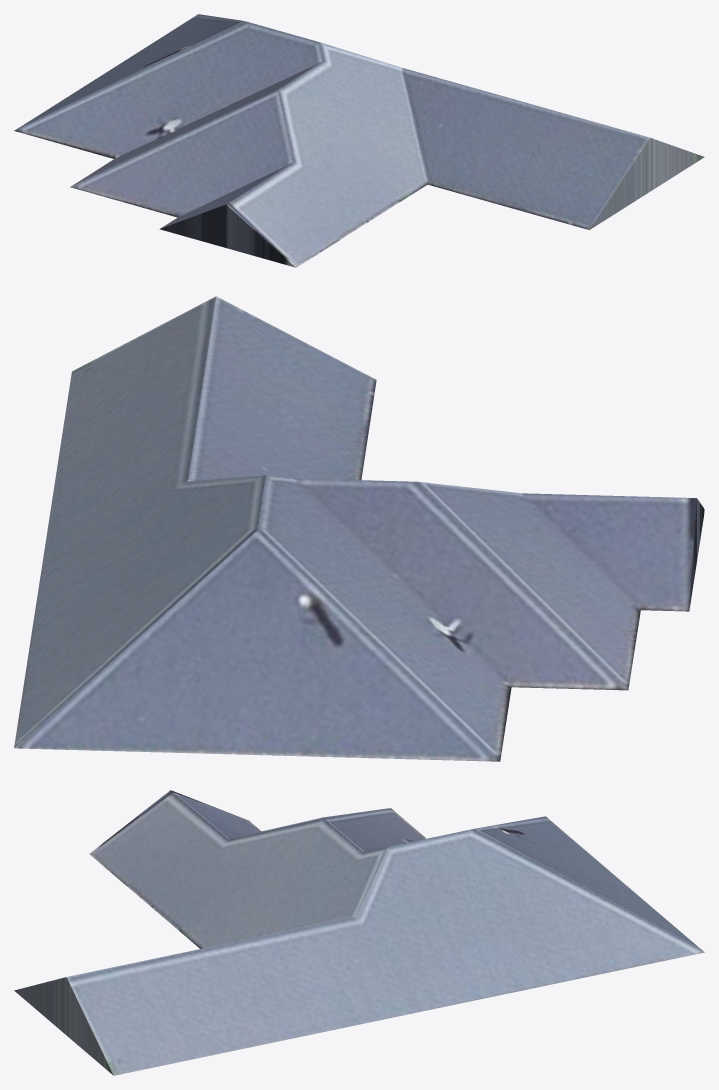
The model's file is BK39_500_013024_0008_roof.obj.
3 renders of one model, top to bottom at view 1: azimuth 30°, elevation 25°; view 2: azimuth 150°, elevation 25°; view 3: azimuth 270°, elevation 25°, orthographic. The views are drawn at different scales.
Visible parts, largest first — view 1: BK39_500_013024_0008_roof; view 2: BK39_500_013024_0008_roof; view 3: BK39_500_013024_0008_roof.
Part boxes in pixels (x1,y1,x2,y2): BK39_500_013024_0008_roof: (14, 14, 704, 267); BK39_500_013024_0008_roof: (14, 296, 704, 761); BK39_500_013024_0008_roof: (14, 790, 704, 1075).
Bounding box in the file's own units: 435 × 70 × 474.
1 material, 1 textured.
